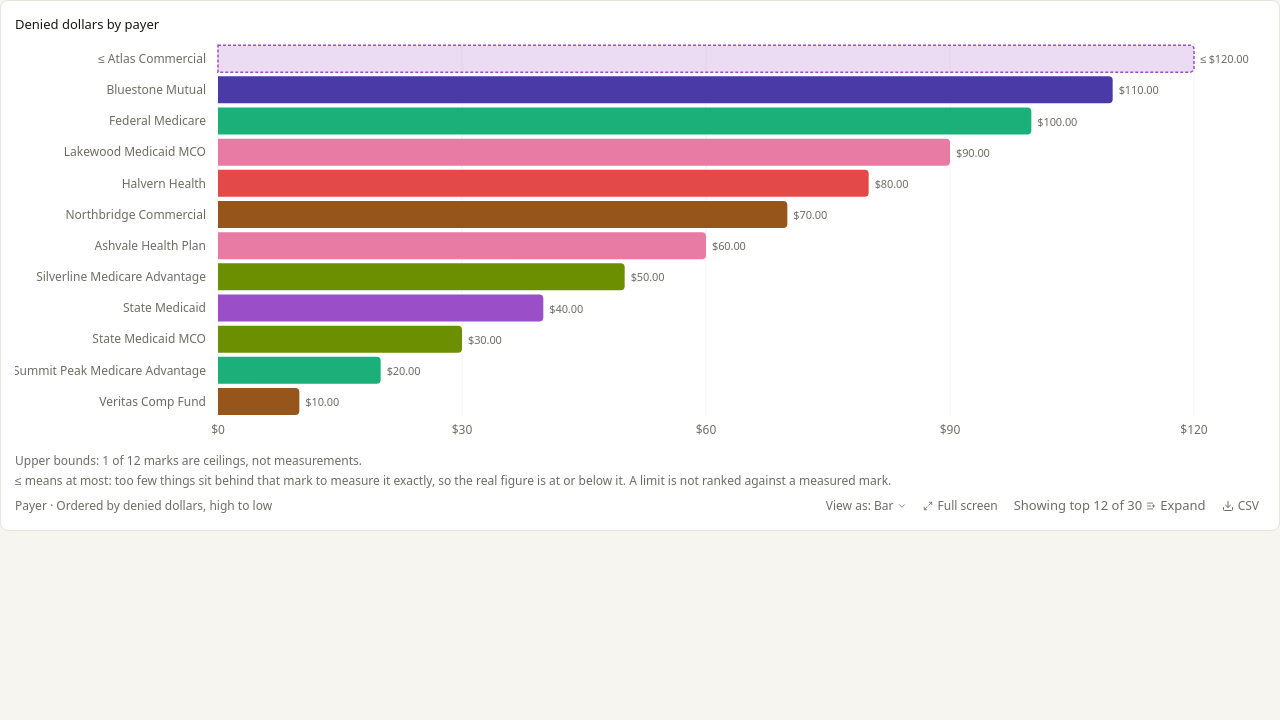
Test case: InvestigationChart — what the fullscreen dialog carries › carries the title, the context line, the notes and the honesty marks
Click the button with aria-label "View full screen". click: click(961, 506)
box: [918,496,1004,516]
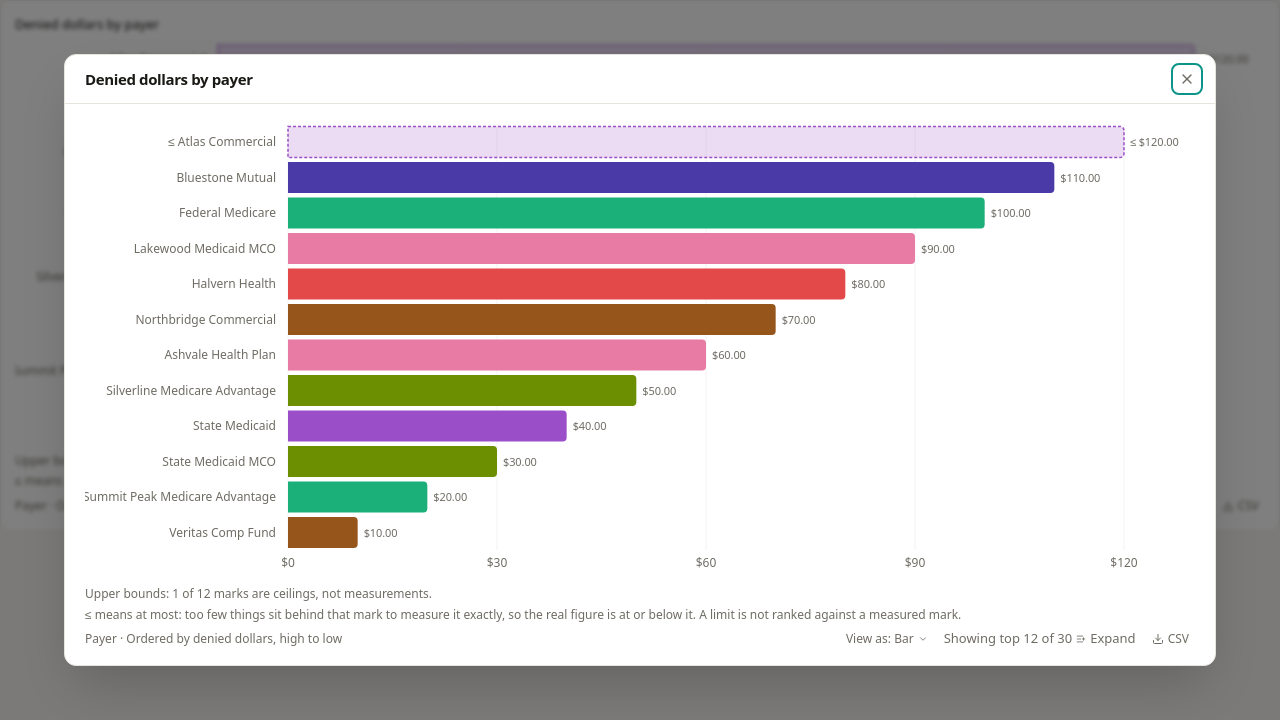
Expected: the number of headings "Denied dollars by payer" is 1, [85,67,253,91]
Expected: the text "Payer · Ordered by denied dollars, high to low" is shown, [85,630,342,648]
Expected: the text "Upper bounds: 1 of 12 marks are ceilings, not measurements." is shown, [85,585,432,602]
